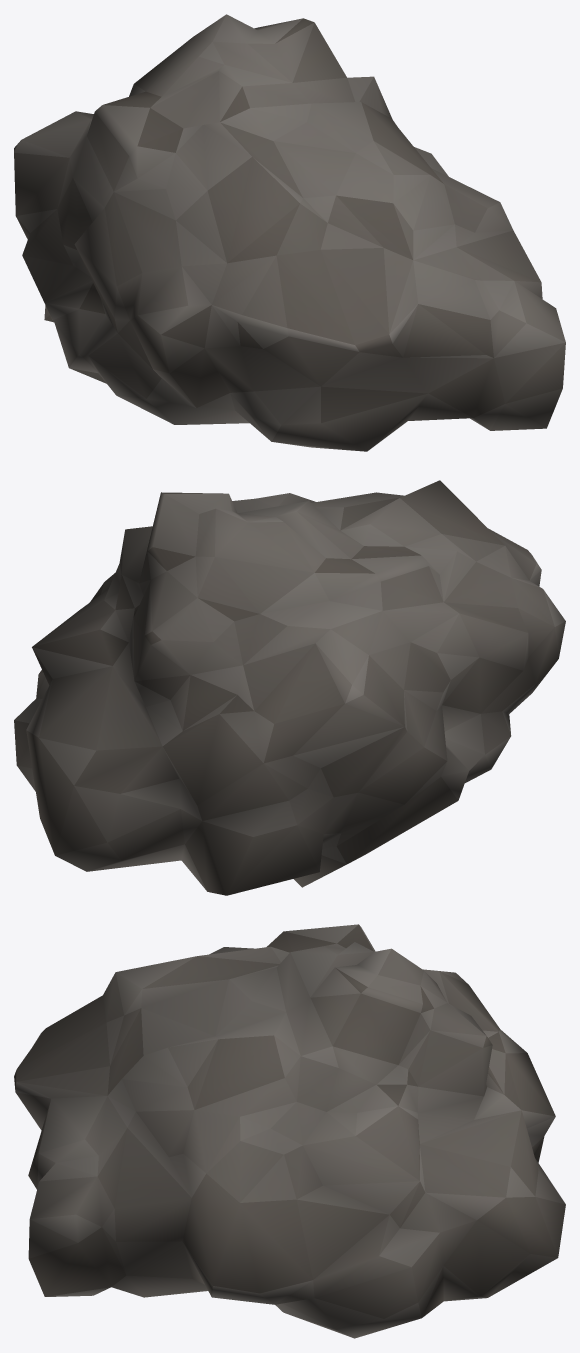
3 renders of one model, top to bottom at view 1: azimuth 30°, elevation 25°; view 2: azimuth 150°, elevation 25°; view 3: azimuth 270°, elevation 25°, orthographic. The views are drawn at different scales.
Parts seen in each view (by area): view 1: Rock3_LP_smooth:polySurface1; view 2: Rock3_LP_smooth:polySurface1; view 3: Rock3_LP_smooth:polySurface1.
Part boxes in pixels (left/top/right/bottom): Rock3_LP_smooth:polySurface1: left=14, top=14, right=565, bottom=451; Rock3_LP_smooth:polySurface1: left=14, top=480, right=565, bottom=895; Rock3_LP_smooth:polySurface1: left=14, top=924, right=565, bottom=1338.
Bounding box in the file's own units: 0.0754 × 0.0591 × 0.0882.
